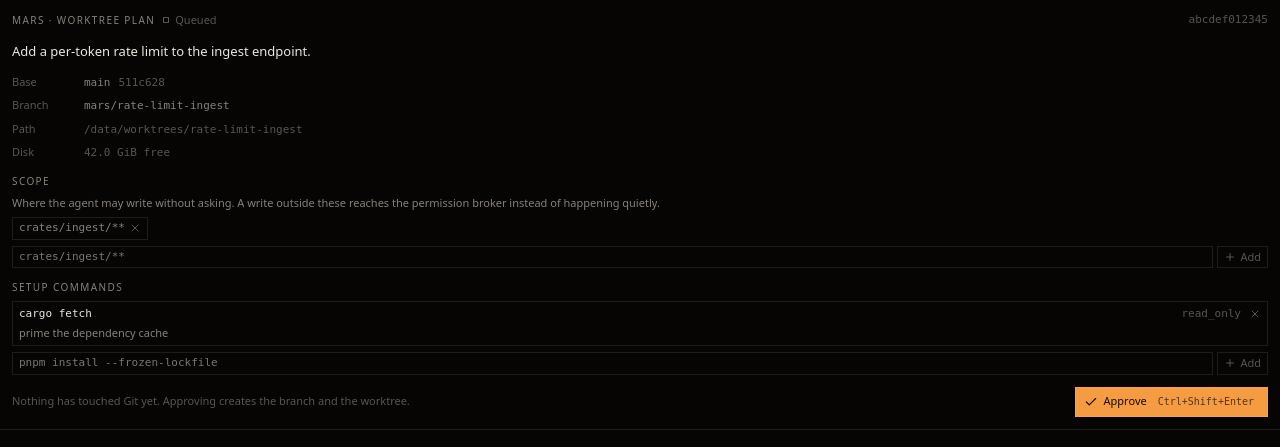
WorktreePlanMessage inline edit › discards edits back to the plan the core holds
Click the button named "Remove crates/ingest/**" next to "crates/ingest/**" at coordinates (135, 228), box 129,222 -> 141,234
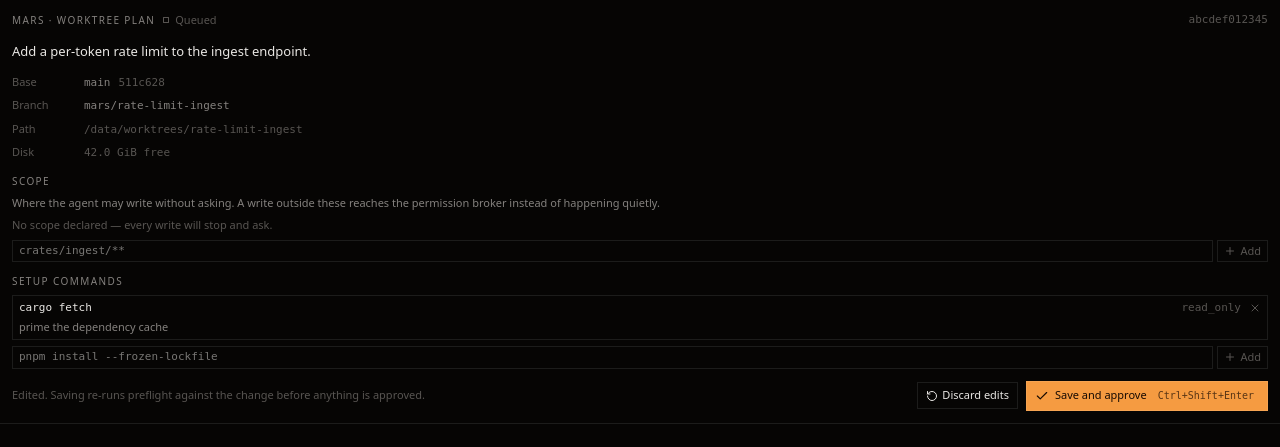
Click the button "Discard edits" at coordinates (968, 396), box 917,382 -> 1018,409
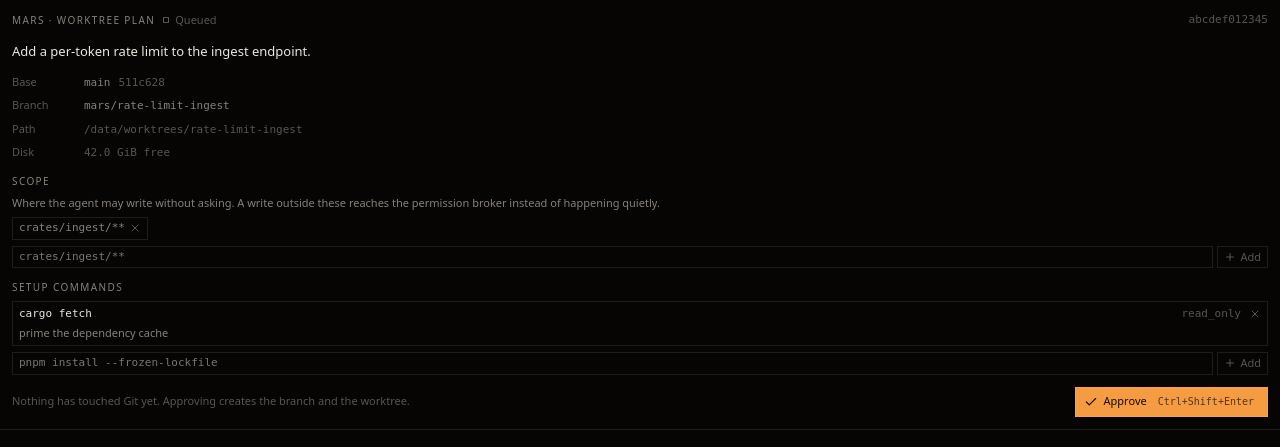
Check: the text "crates/ingest/**" is shown, box 19,220 -> 125,237
Check: the button "Approve Ctrl+Shift+Enter" is shown, box 1075,387 -> 1268,417
